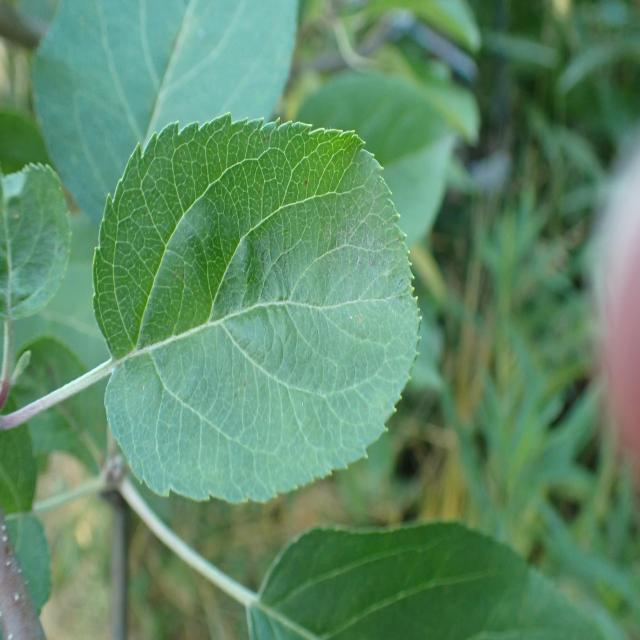healthy: (92, 112, 423, 506), (30, 0, 301, 227), (247, 519, 613, 640), (0, 162, 73, 320)
